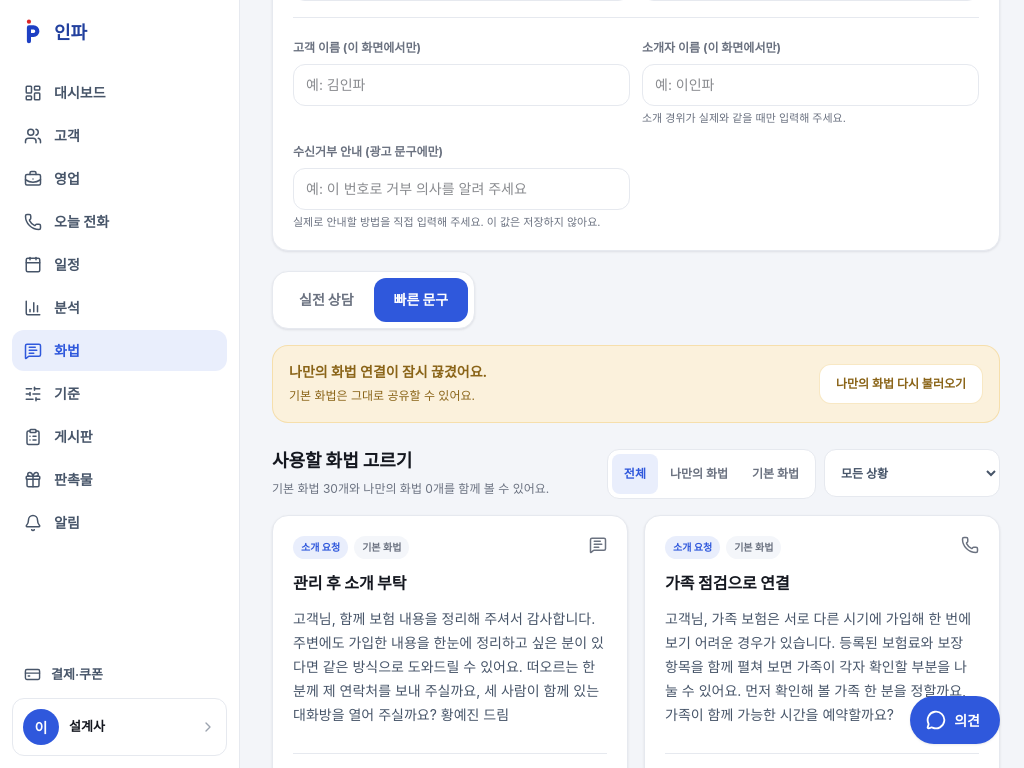
/scripts page state › keeps defaults usable when personal loading fails and retries without losing them
(page scrolled)
Expected: the heading "관리 후 소개 부탁" is shown, [293,571,409,595]
Expected: the message shows "나만의 화법 연결이 잠시 끊겼어요", [289,363,487,380]
Click the button "나만의 화법 다시 불러오기". click: [901, 384]
box: [819,364,983,404]
(page scrolled)
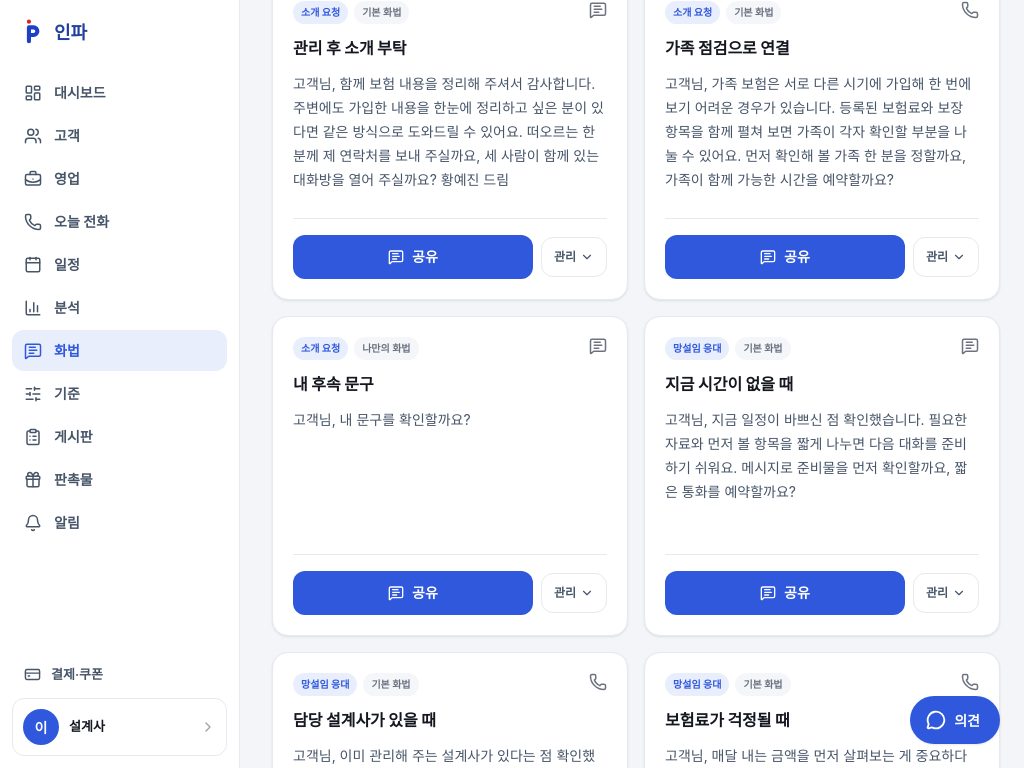
Result: the heading "내 후속 문구" is shown at [293,374,374,394]
